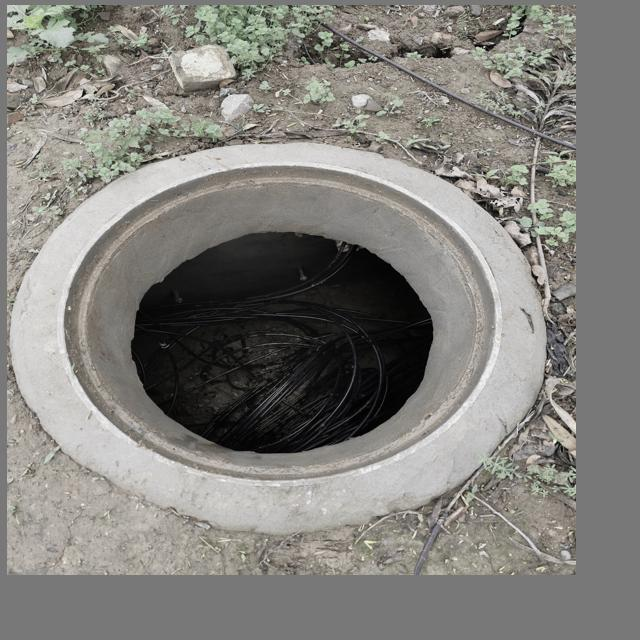lose: (87, 148, 526, 480)
